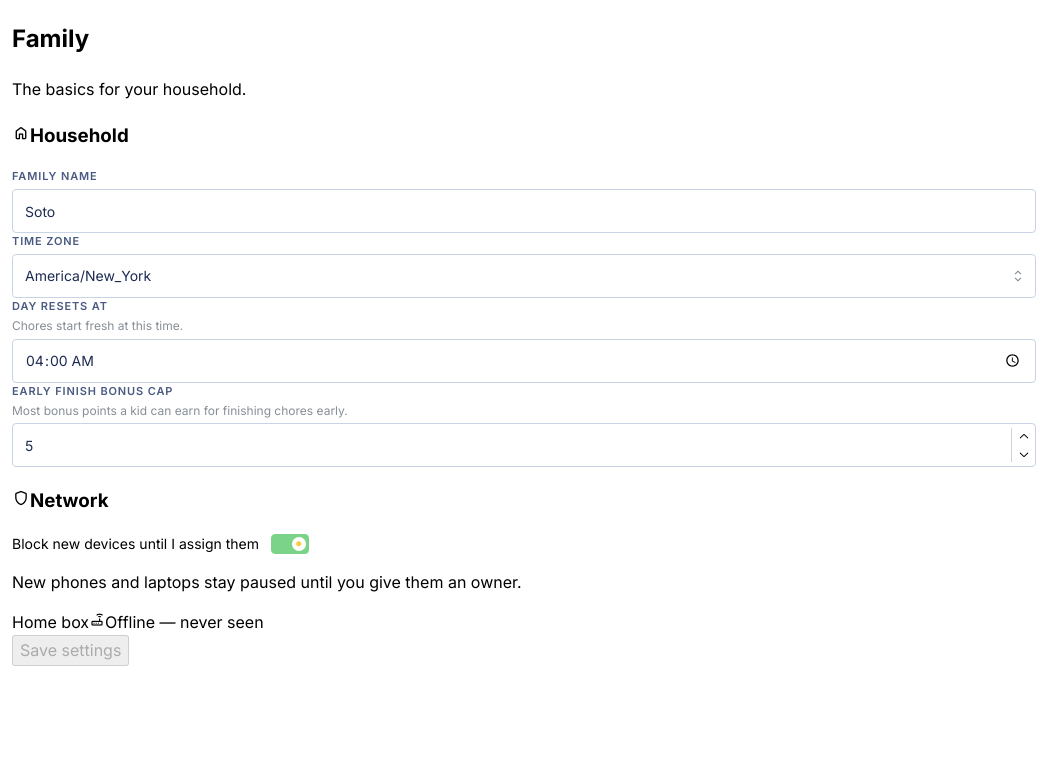
settings › an empty family name asks for one and cannot be saved
The width and height of the screenshot is (1048, 768).
Clear the field labelled "Family name": (524, 211) [12,189,1036,233]
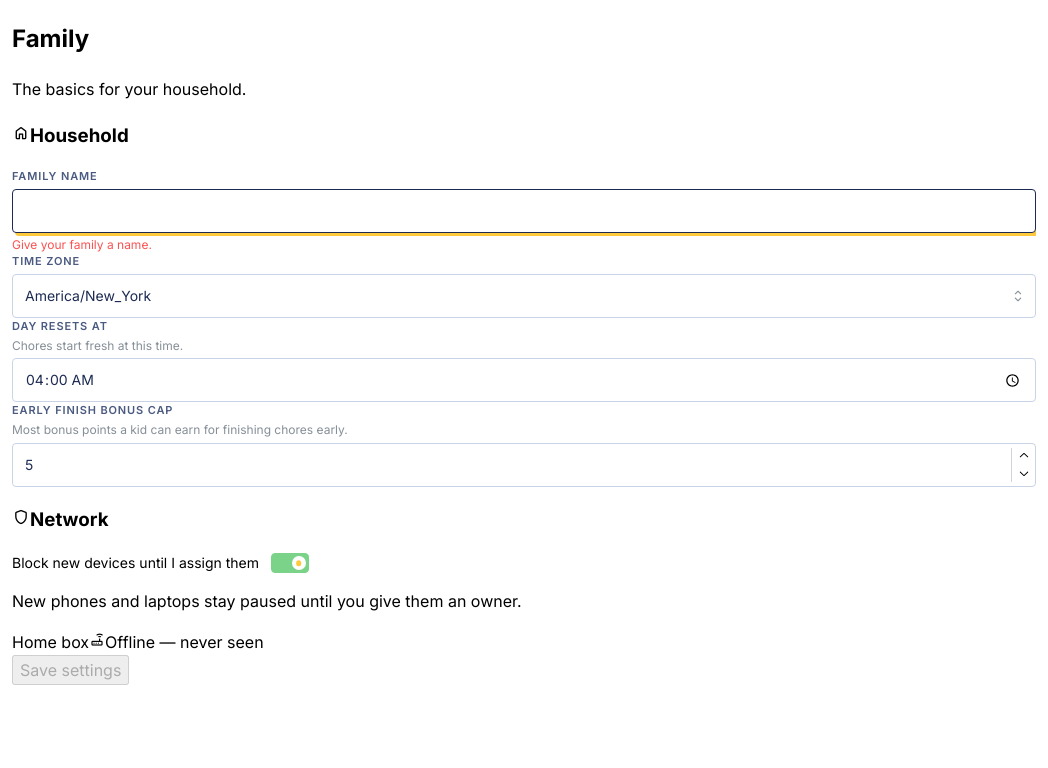
Check: the button "Save settings" is disabled, box [12,655,129,685]
Check: the text "Give your family a name." is shown, box [12,237,152,252]
